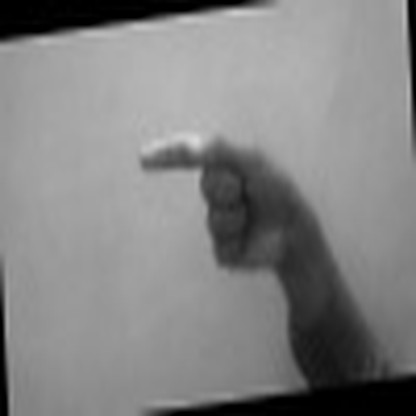g: (138, 116, 317, 275)
